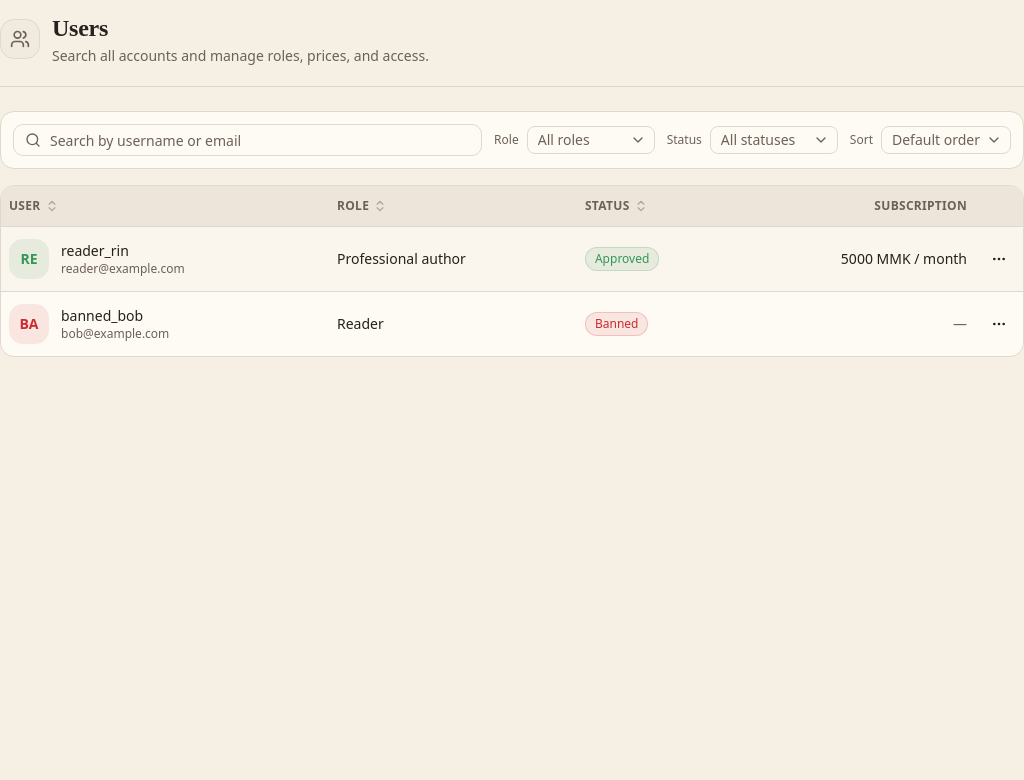
UsersManagementPage › reactivates a banned account from the row menu (FR-1.4)
Click the button named "Actions" in the row of "banned_bob" at (999, 324), box top-left (983, 308), bottom-right (1015, 340)
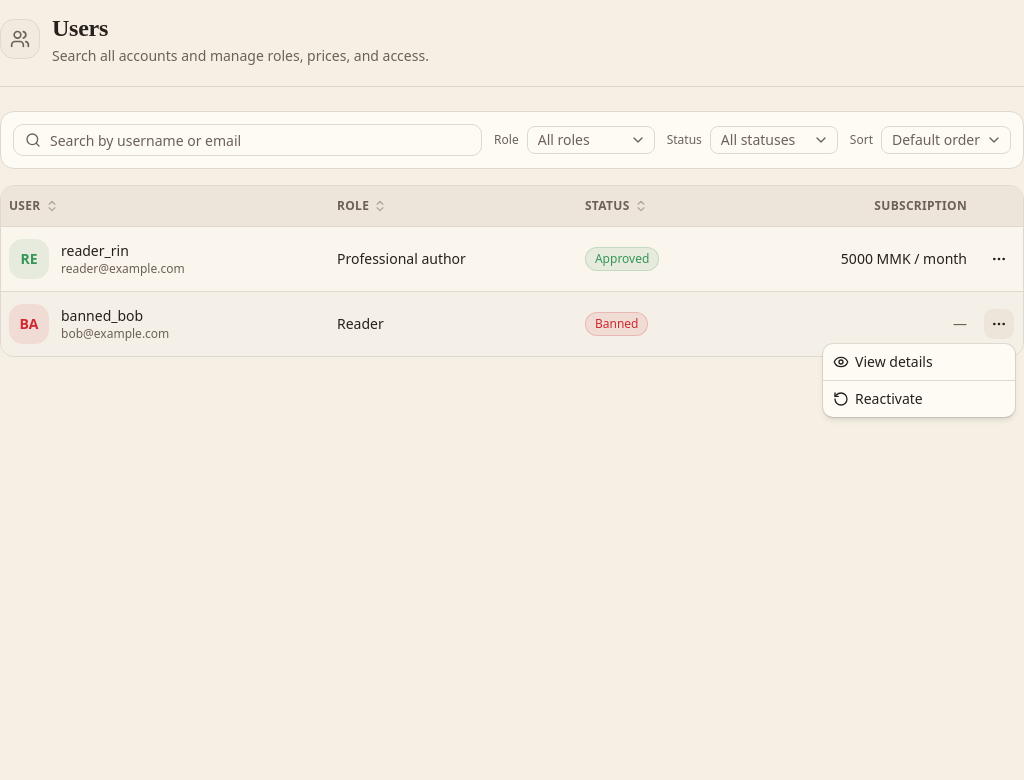
Click the menu item "Reactivate" at (878, 398), box top-left (833, 389), bottom-right (923, 408)
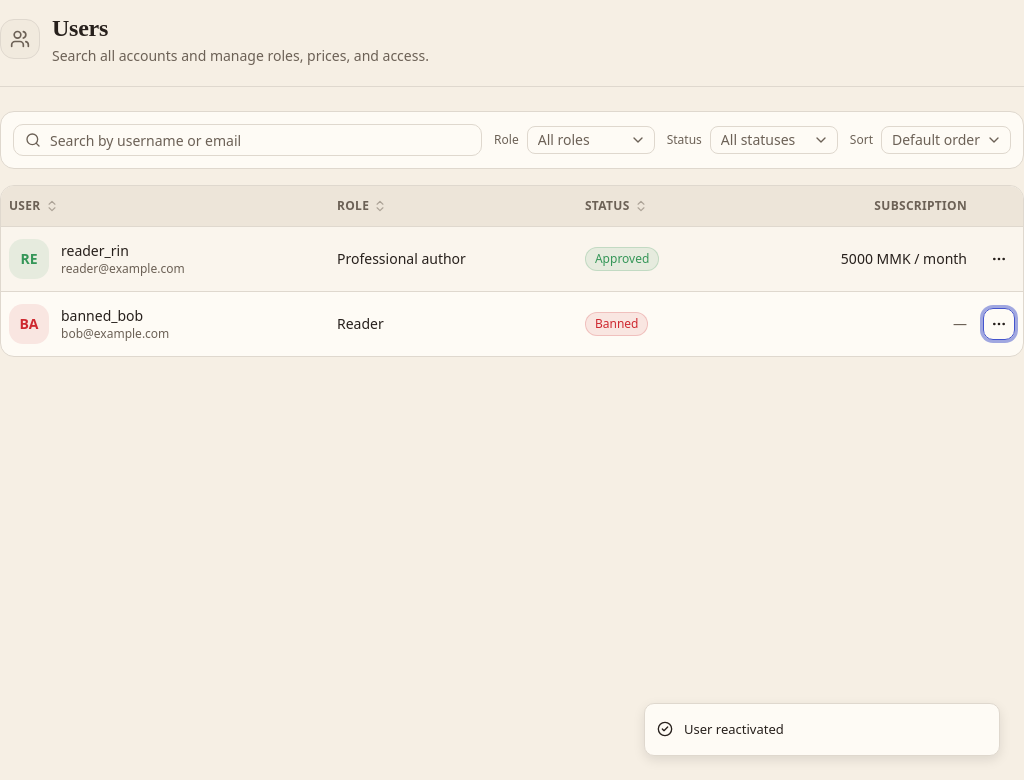
Now the text "User reactivated" is shown, box top-left (684, 720), bottom-right (784, 739)
